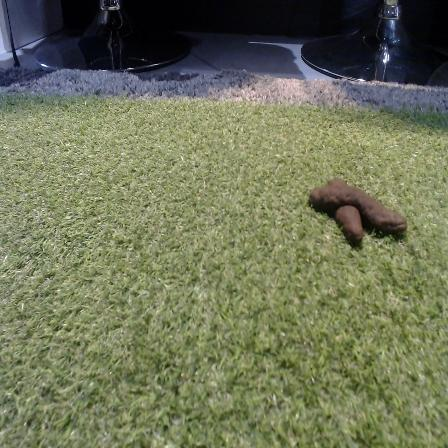dog-poop: (302, 168, 408, 246)
